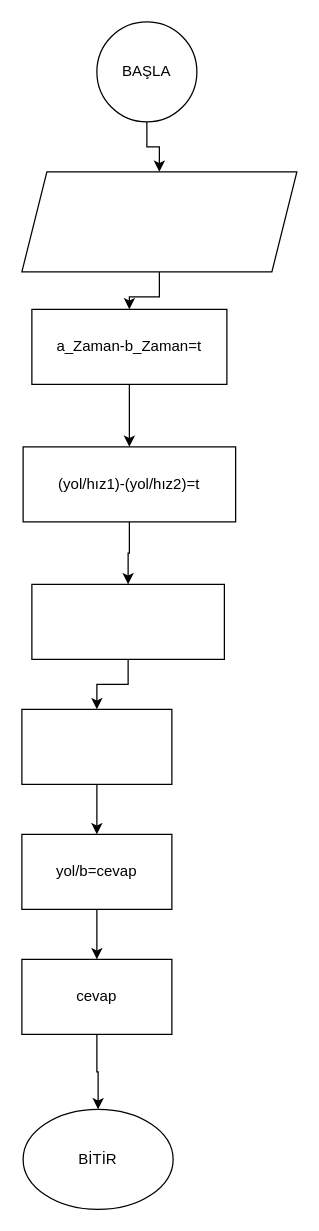
Image size: 319x1231. Some labels were removed from this diagram. The centre of each missing label's shape, as x and y in pixels:
a_Zaman-t=baslama: (x=127, y=621)
istenen-baslama=b: (x=96, y=746)
yol,hız1,hız2,t,a_Zaman,b_Zaman baslama,istenen,b,cevap: (x=159, y=221)
